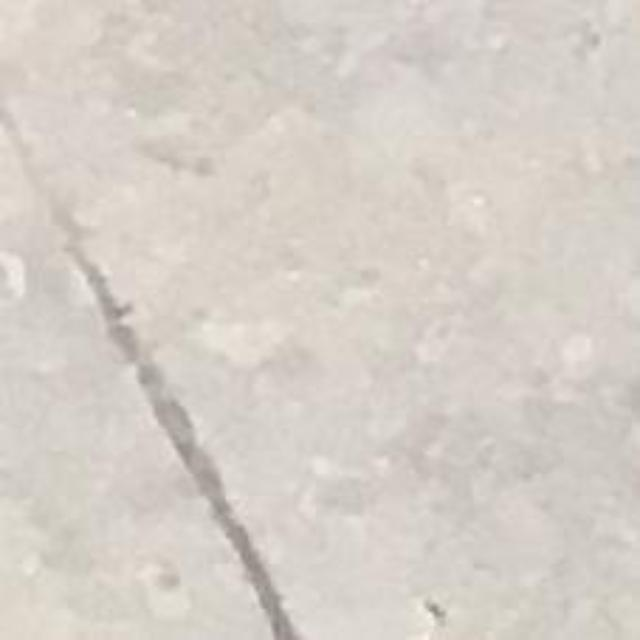crack: (0, 102, 304, 639)
